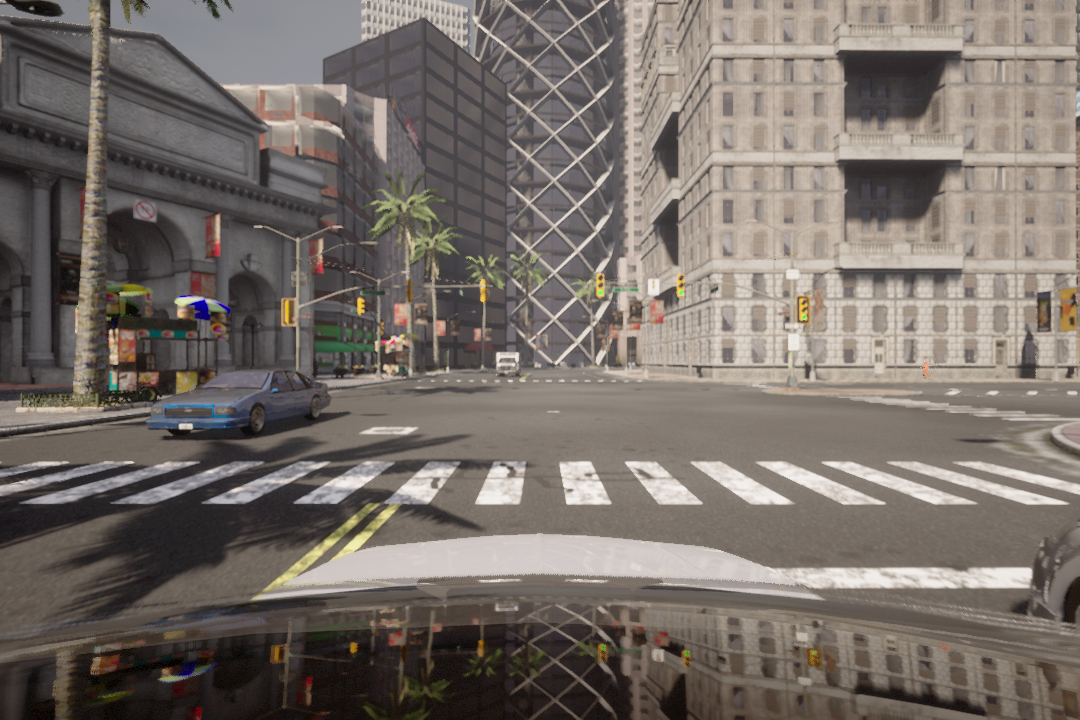TrafficLight: (794, 297, 814, 327), (674, 271, 691, 301), (595, 273, 608, 301)
TrafficSign: (131, 198, 158, 223)
walkside: (2, 457, 1080, 520)
